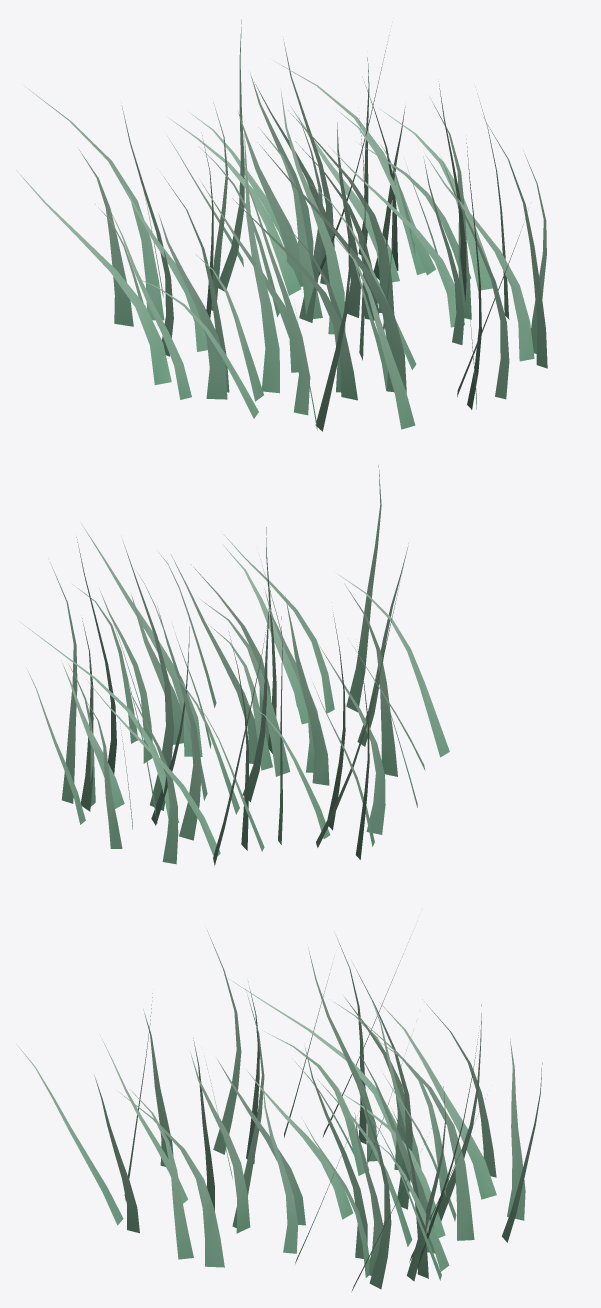
The model's file is mesh-plant-002-sabre-grass_LOD1.glb.
The picture shows the model from 3 angles, top to bottom: view 1: azimuth 30°, elevation 25°; view 2: azimuth 150°, elevation 25°; view 3: azimuth 270°, elevation 25°; orthographic projection. The views are drawn at different scales.
Visible parts, largest first — view 1: geometry_0; view 2: geometry_0; view 3: geometry_0.
Part boxes in pixels (<box>): geometry_0: <box>16,19,547,431</box>; geometry_0: <box>19,465,449,865</box>; geometry_0: <box>16,930,542,1291</box>.
Size of the model in its own units: 2.35 by 1.07 by 2.55.
